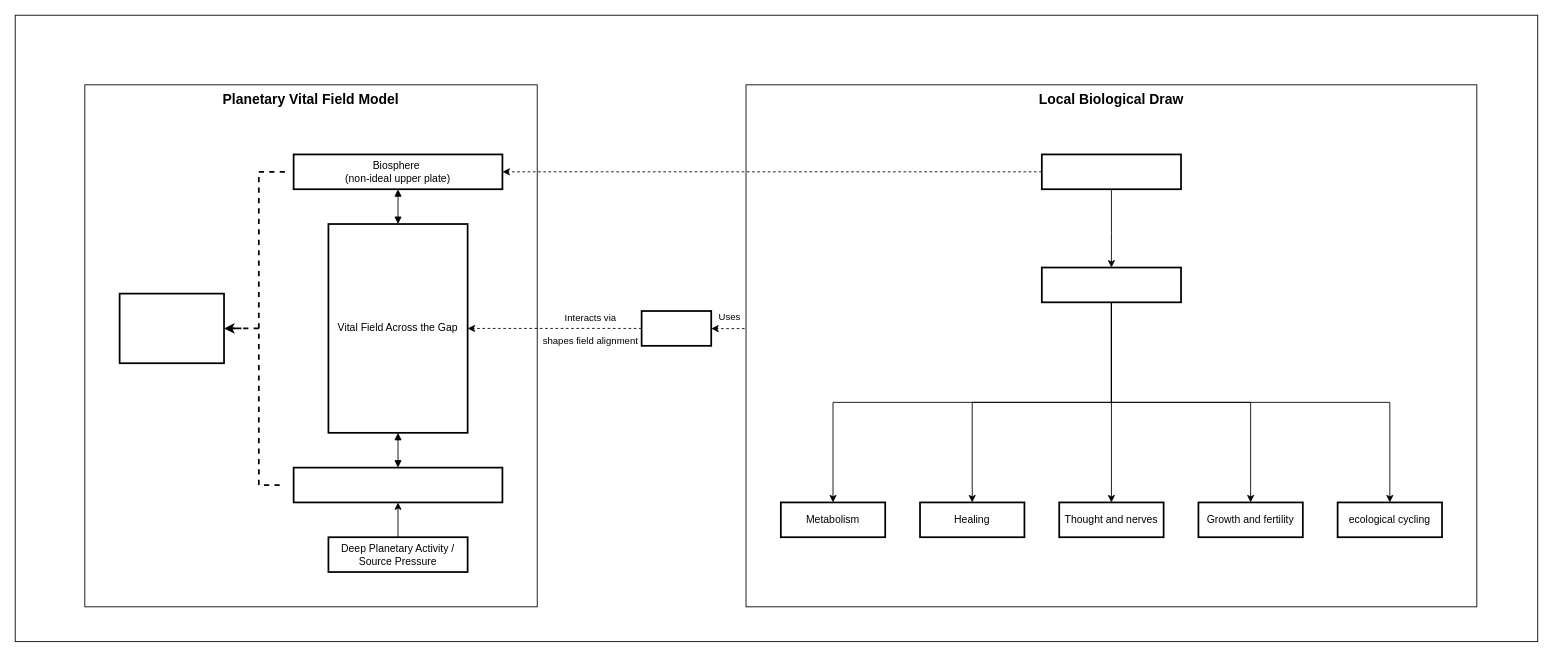
The diagram is 1553 pixels wide and 657 high, and some of its shapes have lost their labels. The shapes that lost their labels are listed below. From the top down, each one's box as (x1, y1, x2, y2) in pixels, then its label:
(1041, 153, 1181, 190): Organisms couple locally to biosphere field
(1041, 266, 1181, 303): Vital current drawn
(118, 292, 224, 364): Vital Gradient
(640, 310, 712, 346): Magic
(292, 466, 503, 503): Deep Mantle Reservoir (lower source/sink)
